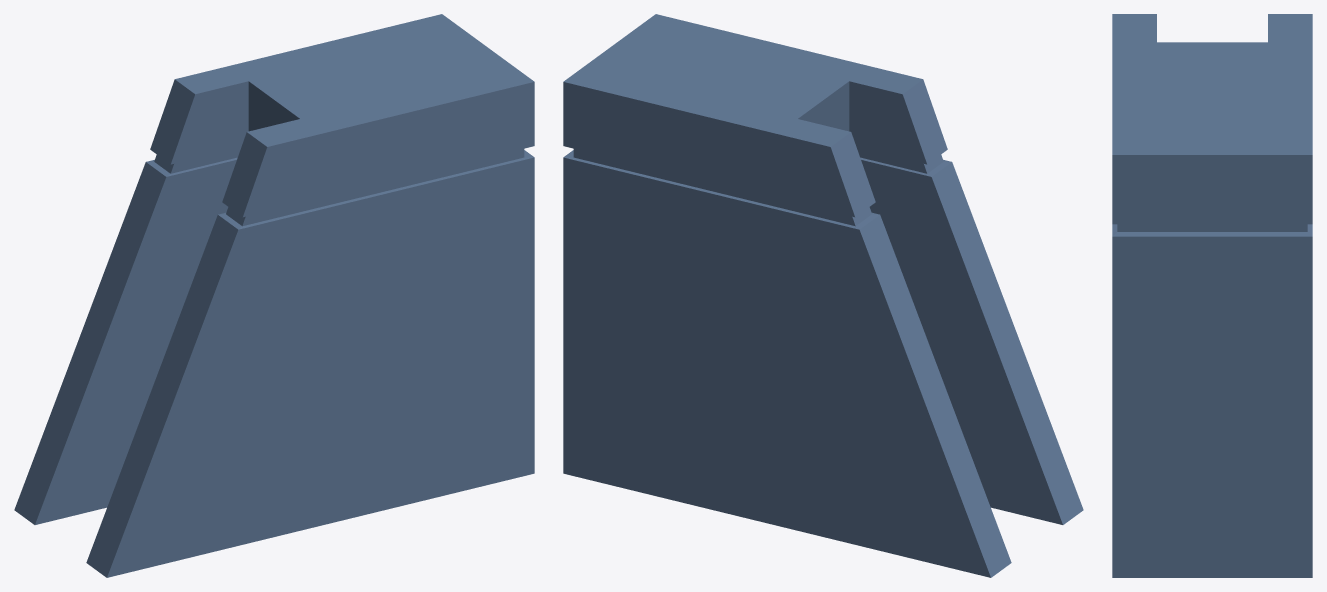
Rendered from Building B.fbx.
3 views of the same model, side by side, from view 1: azimuth 30°, elevation 25°; view 2: azimuth 150°, elevation 25°; view 3: azimuth 270°, elevation 25° (orthographic). The views are drawn at different scales.
Parts seen in each view (by area): view 1: PS5; view 2: PS5; view 3: PS5.
Part boxes in pixels (left/top/right/bottom): PS5: left=14, top=14, right=534, bottom=577; PS5: left=563, top=14, right=1083, bottom=577; PS5: left=1112, top=14, right=1312, bottom=577.
Size of the model in its own units: 2287 by 2001 by 858.
